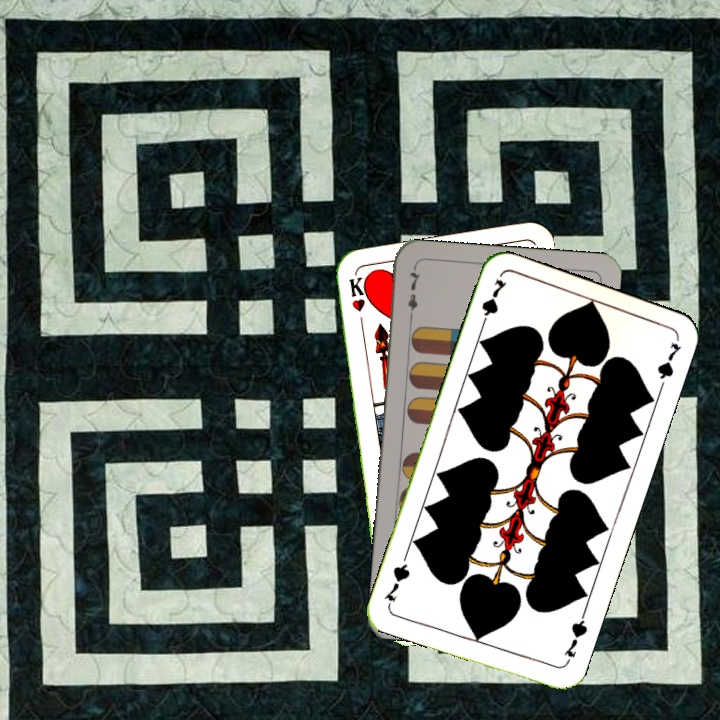E7: (403, 264, 424, 323)
G7: (476, 275, 509, 332), (559, 609, 591, 667)
HK: (345, 274, 367, 333)
